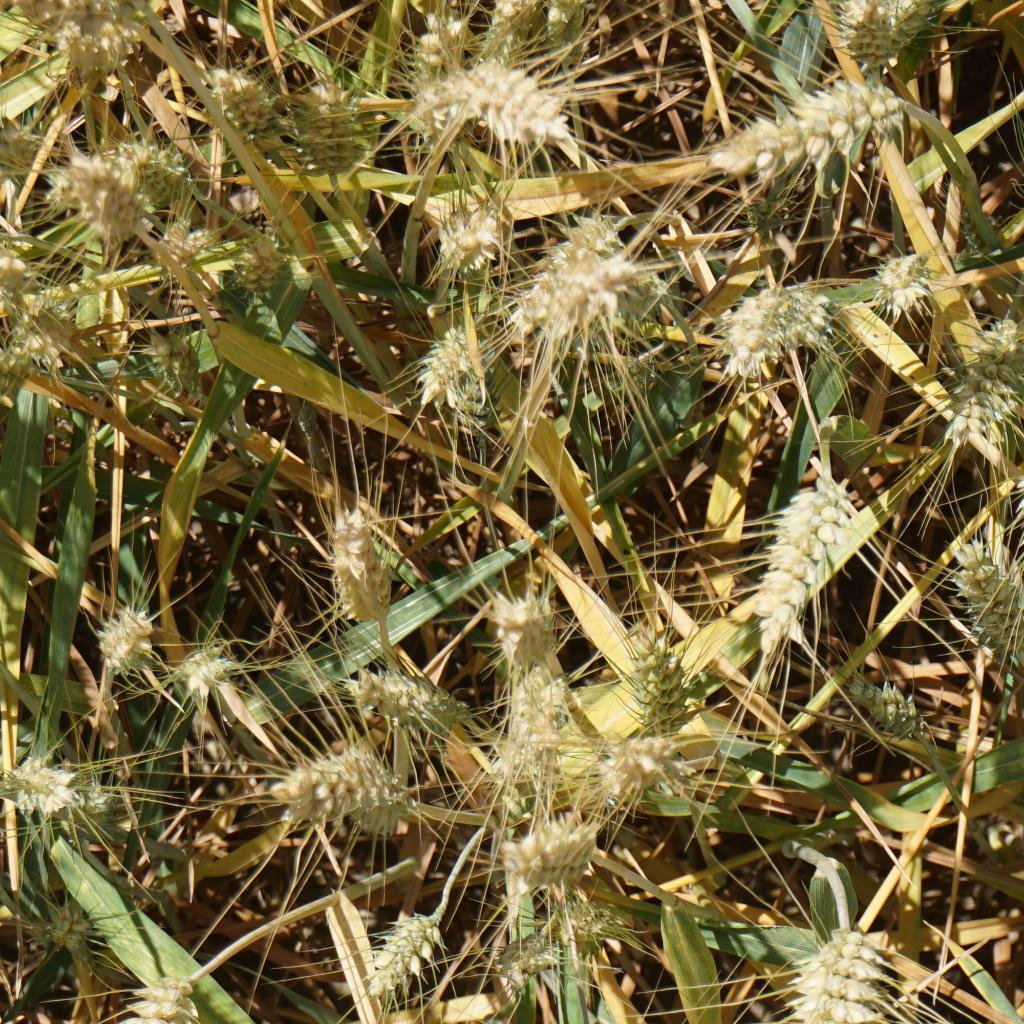0-0: (711, 69, 922, 182), (409, 49, 586, 156), (502, 206, 640, 342), (274, 731, 428, 845), (739, 486, 835, 645), (395, 9, 489, 164), (317, 488, 411, 635), (271, 73, 369, 197), (786, 918, 887, 1024), (349, 662, 485, 738), (357, 900, 455, 1005), (41, 143, 133, 247), (726, 281, 820, 375), (590, 241, 687, 330), (951, 536, 1024, 651), (540, 879, 641, 960), (842, 0, 951, 71), (137, 319, 220, 411), (54, 971, 197, 1024), (621, 627, 698, 720), (479, 570, 557, 661), (52, 14, 146, 89), (115, 142, 207, 216), (201, 54, 277, 143), (507, 810, 601, 881), (591, 725, 681, 799), (550, 260, 625, 341), (426, 184, 499, 267), (840, 665, 931, 731), (221, 221, 290, 304), (475, 925, 557, 994), (411, 324, 486, 399), (60, 779, 139, 848), (450, 358, 506, 450), (173, 632, 243, 705), (924, 365, 999, 433), (8, 755, 86, 815), (879, 250, 947, 318), (3, 297, 73, 361), (93, 594, 153, 661), (0, 105, 44, 195), (33, 901, 101, 958), (739, 183, 799, 247), (976, 304, 1024, 376), (0, 243, 48, 313), (468, 0, 524, 60), (948, 190, 1004, 250), (612, 343, 663, 408), (155, 216, 214, 259), (45, 0, 133, 28), (528, 1, 584, 41), (0, 329, 27, 399)
